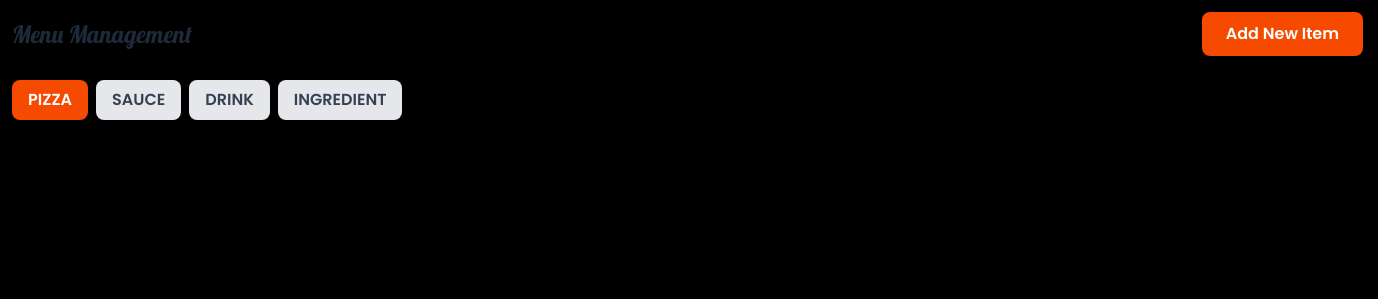
MenuManager - ingredient integration › deletes an ingredient and shows message
Click the button "INGREDIENT" at (340, 100), box 278,80 -> 402,120
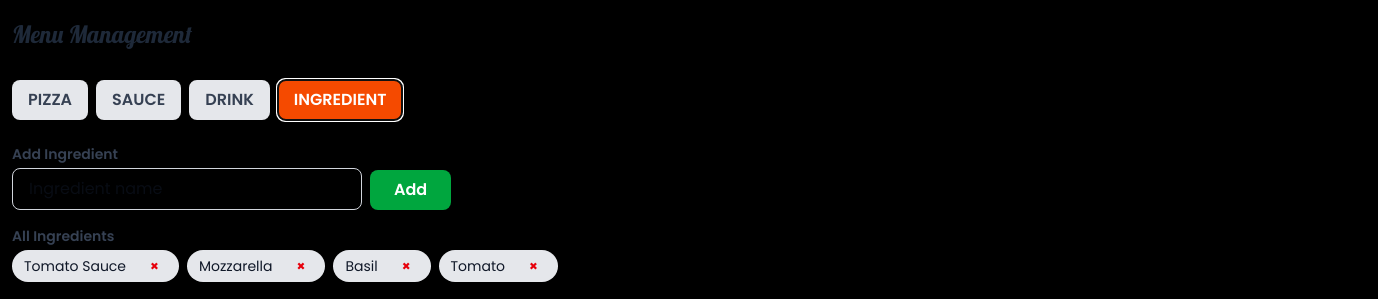
Type "Onion" into the field with placeholder "Ingredient name" at (187, 189), box 12,168 -> 362,210
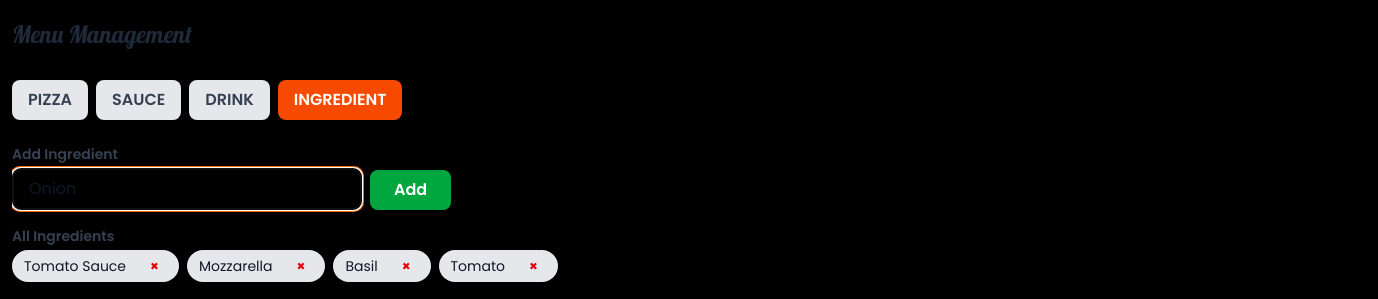
Click the button "Add" at (411, 190), box 370,170 -> 451,210
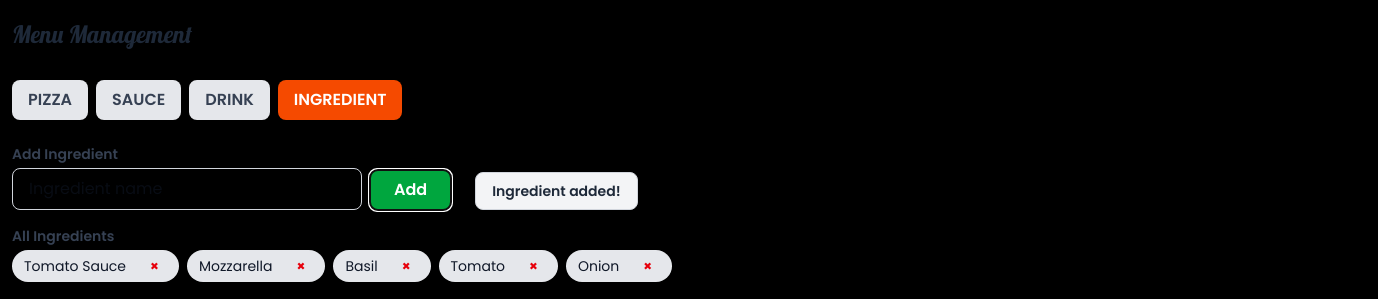
Kliknij przycisk usuwania (przykład, zależnie od implementacji)
Click the button named "delete onion" at (648, 266), box 635,254 -> 660,278
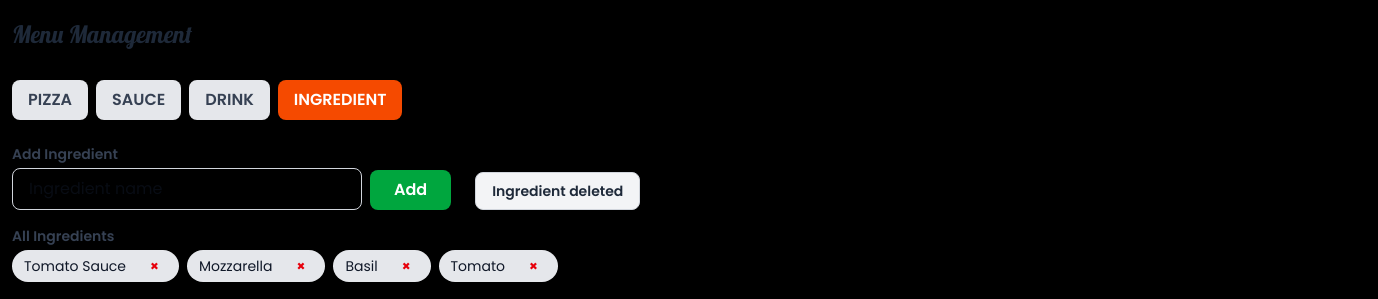
Expected: the text "Ingredient deleted" is shown, 475,172 -> 640,210
Expected: the text "Onion" is gone
